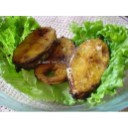seerfish: (71, 38, 110, 98), (13, 26, 54, 69), (39, 36, 72, 81)
